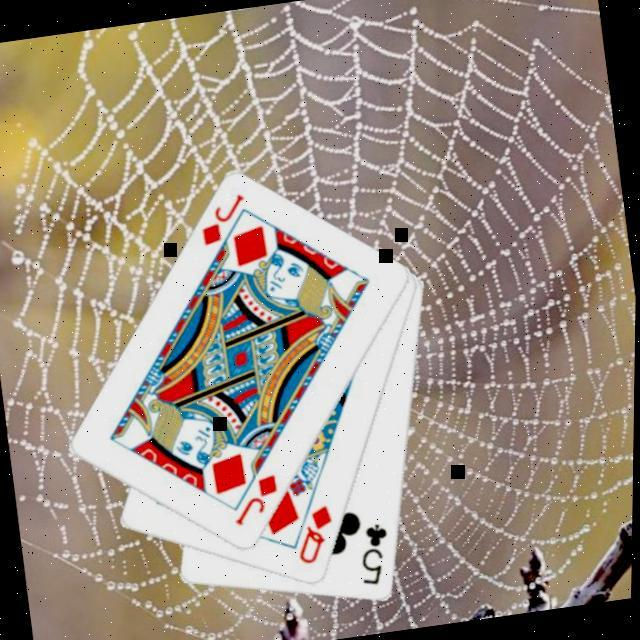5C: (351, 519, 398, 590)
JD: (192, 188, 254, 249), (225, 470, 285, 529)
QD: (288, 499, 341, 568)
